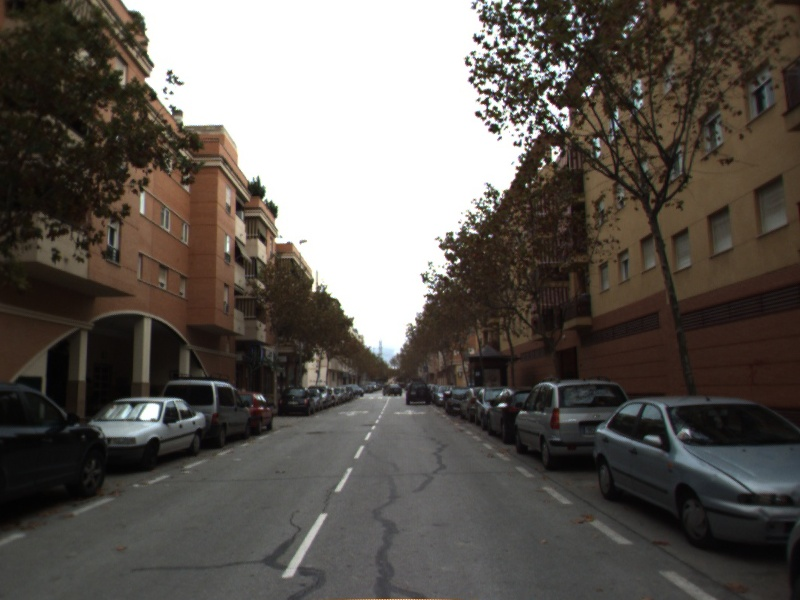STRAIGHT_LEFT_RIGHT: (392, 407, 429, 417)
